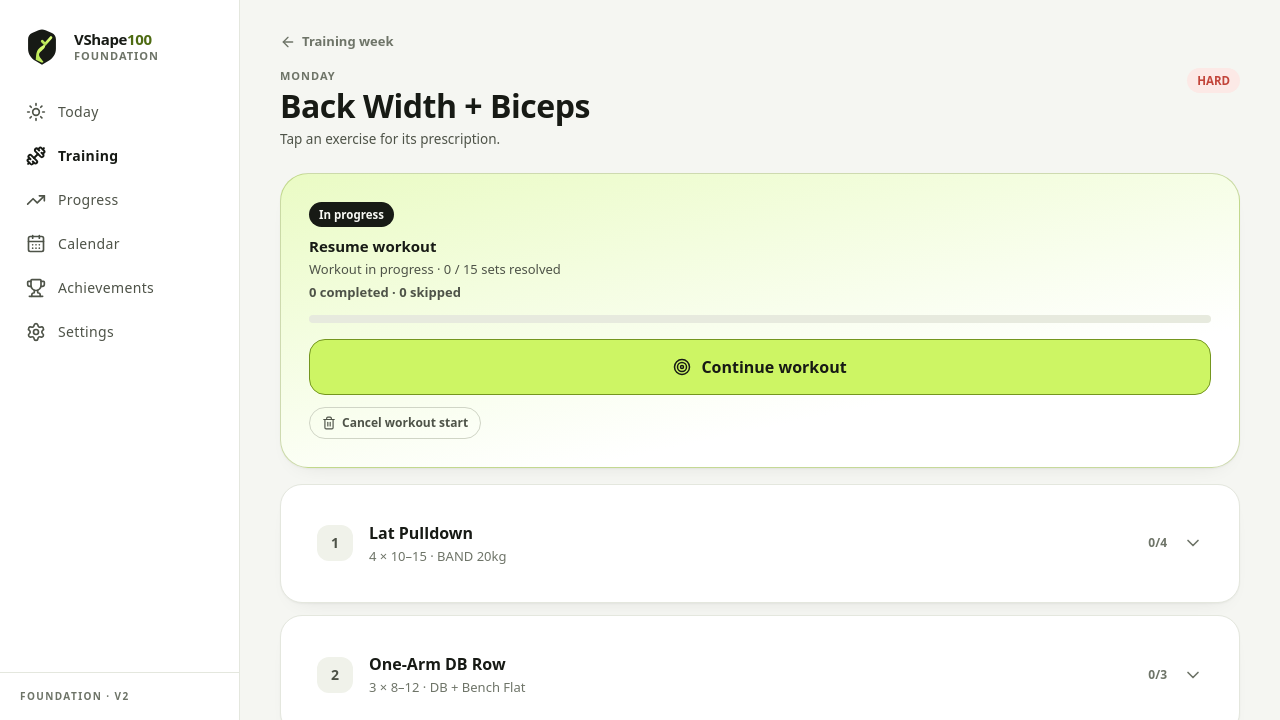
Test: 1. guidance lives inside the active workout › appears inside the exercise panel once the workout exists
Expected: the heading "Back Width + Biceps" is shown, [280, 88, 590, 125]
Expected: the text "Resume workout" is shown, [309, 236, 436, 256]
Click the button "1 Lat Pulldown 4 × 10–15 · BAND 20kg 0/4": (335, 543) [301, 505, 1219, 582]
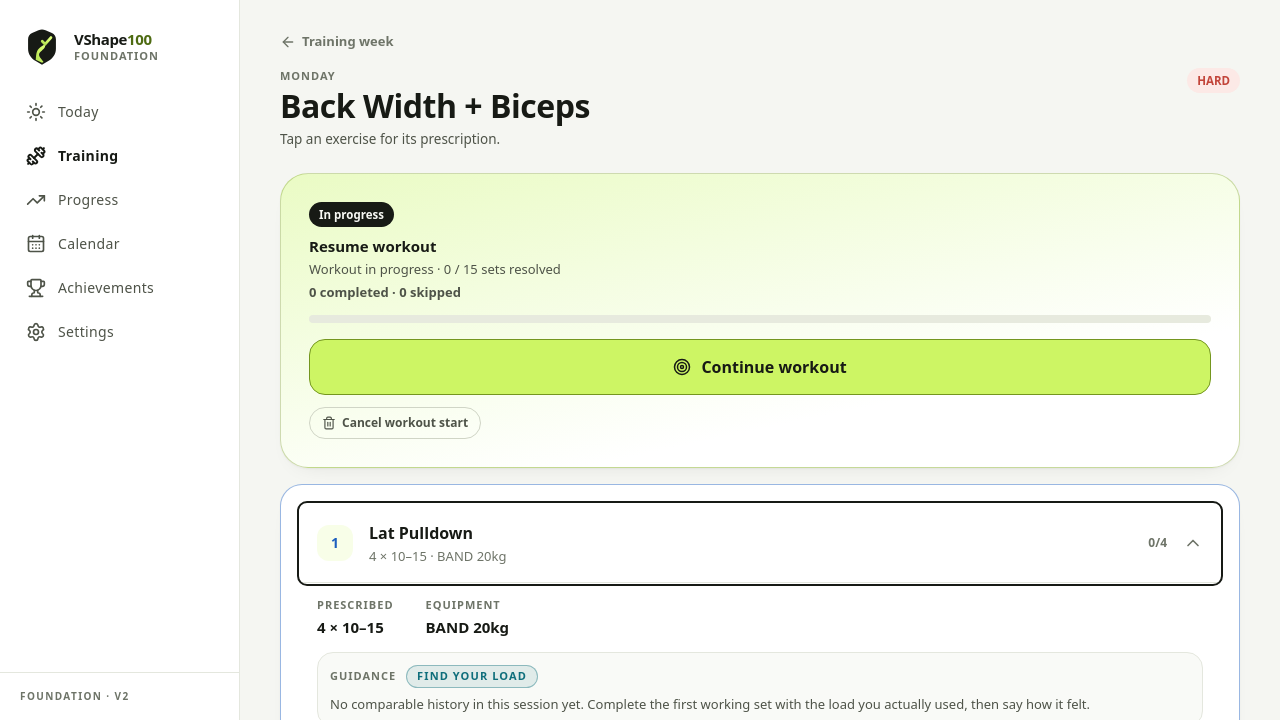
Expected: the text "Guidance" is shown, [330, 668, 396, 685]
